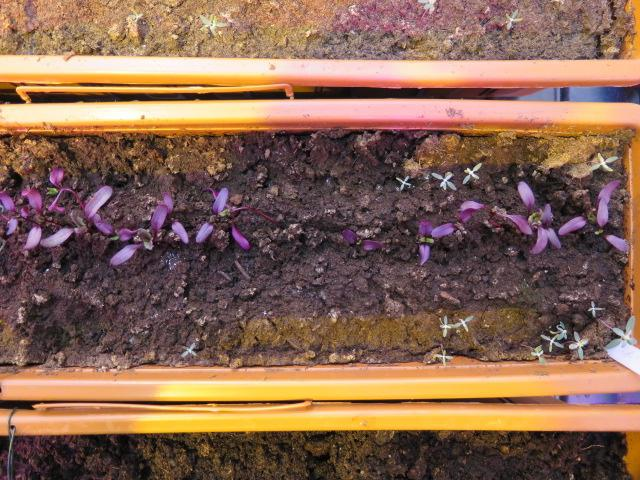crop: (336, 225, 386, 253)
weed: (600, 312, 637, 351), (582, 146, 618, 173), (566, 327, 590, 360), (498, 4, 524, 31), (428, 168, 456, 191), (430, 344, 453, 367), (584, 295, 605, 320), (460, 159, 481, 184), (393, 171, 412, 193), (177, 340, 197, 359)
